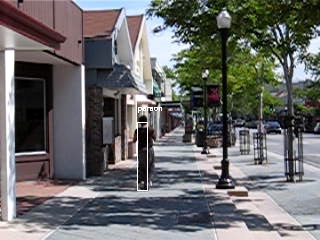person: (133, 116, 156, 192), (132, 116, 155, 192), (134, 116, 157, 192), (133, 115, 156, 191), (133, 117, 156, 193)
target_negative: (80, 14, 218, 176), (10, 34, 226, 134), (4, 51, 88, 120), (303, 81, 313, 144), (245, 238, 314, 239)
